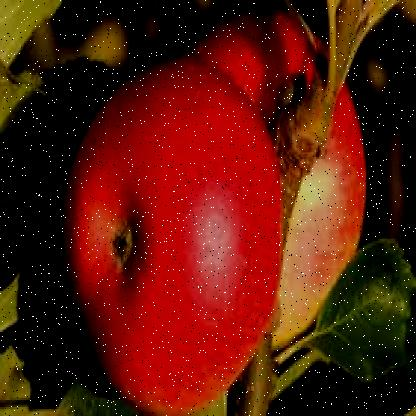apple: (68, 52, 268, 414)
